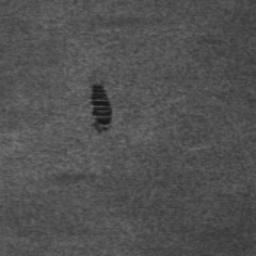Secondary rust skin: (91, 84, 111, 134)
